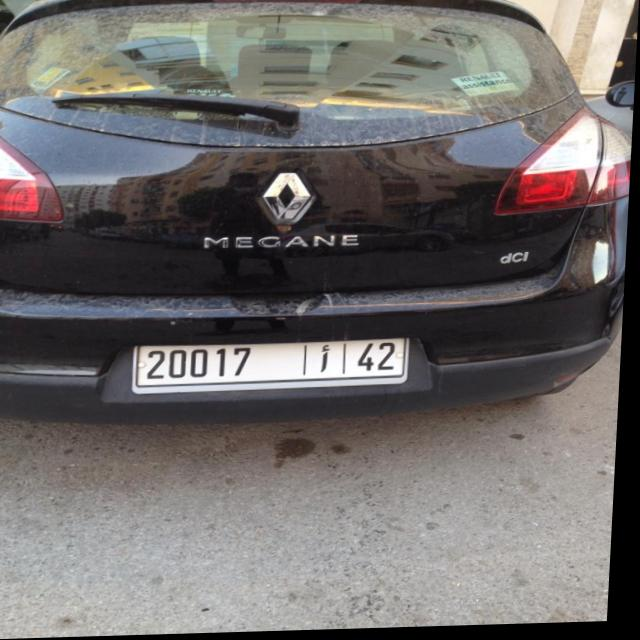License-Plate: (137, 342, 412, 395)
